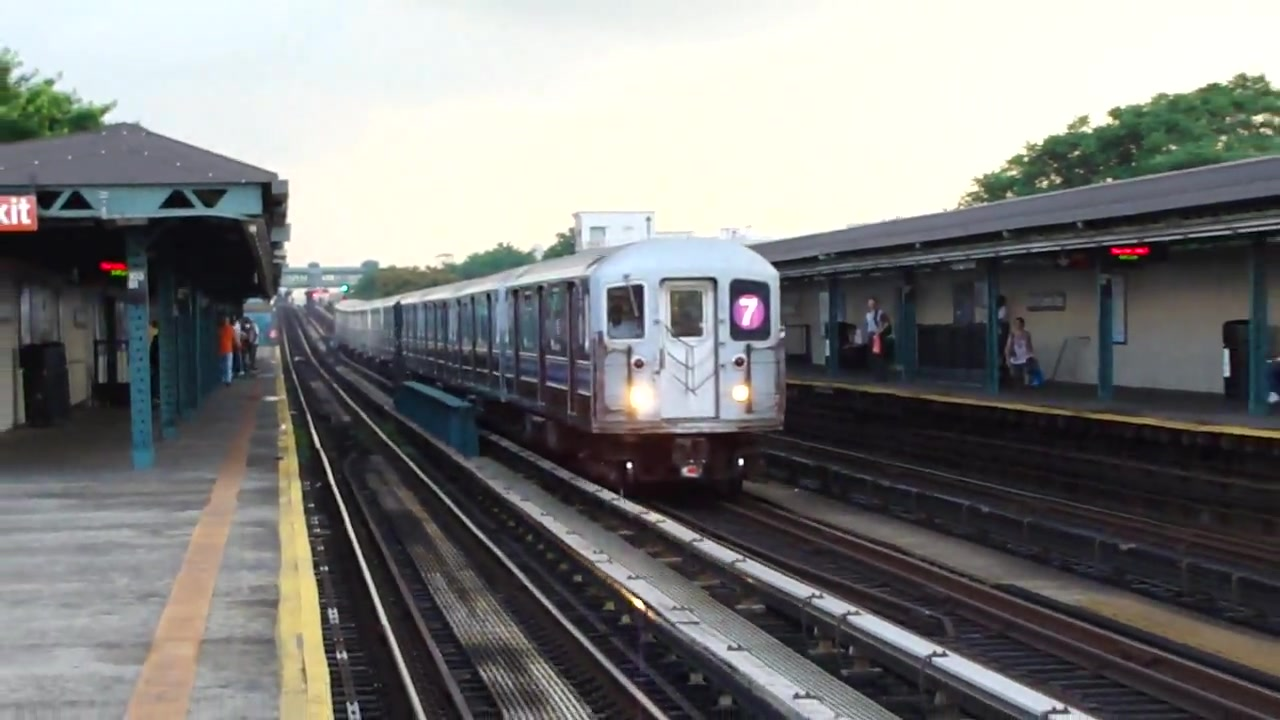train: (331, 231, 788, 494)
